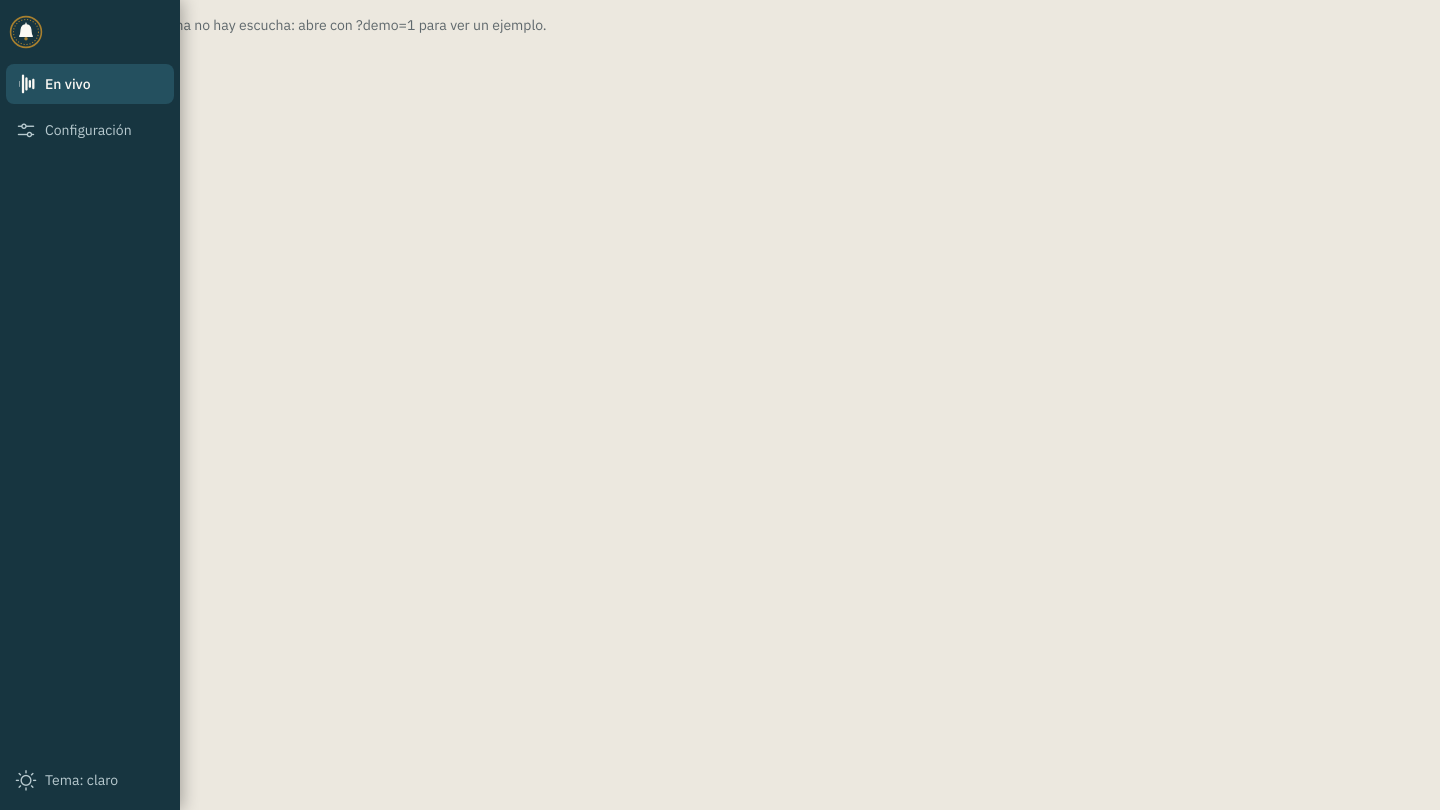
App › alterna el tema en el documento
Click the button "Tema: claro" at (90, 780), box [6,760,174,800]
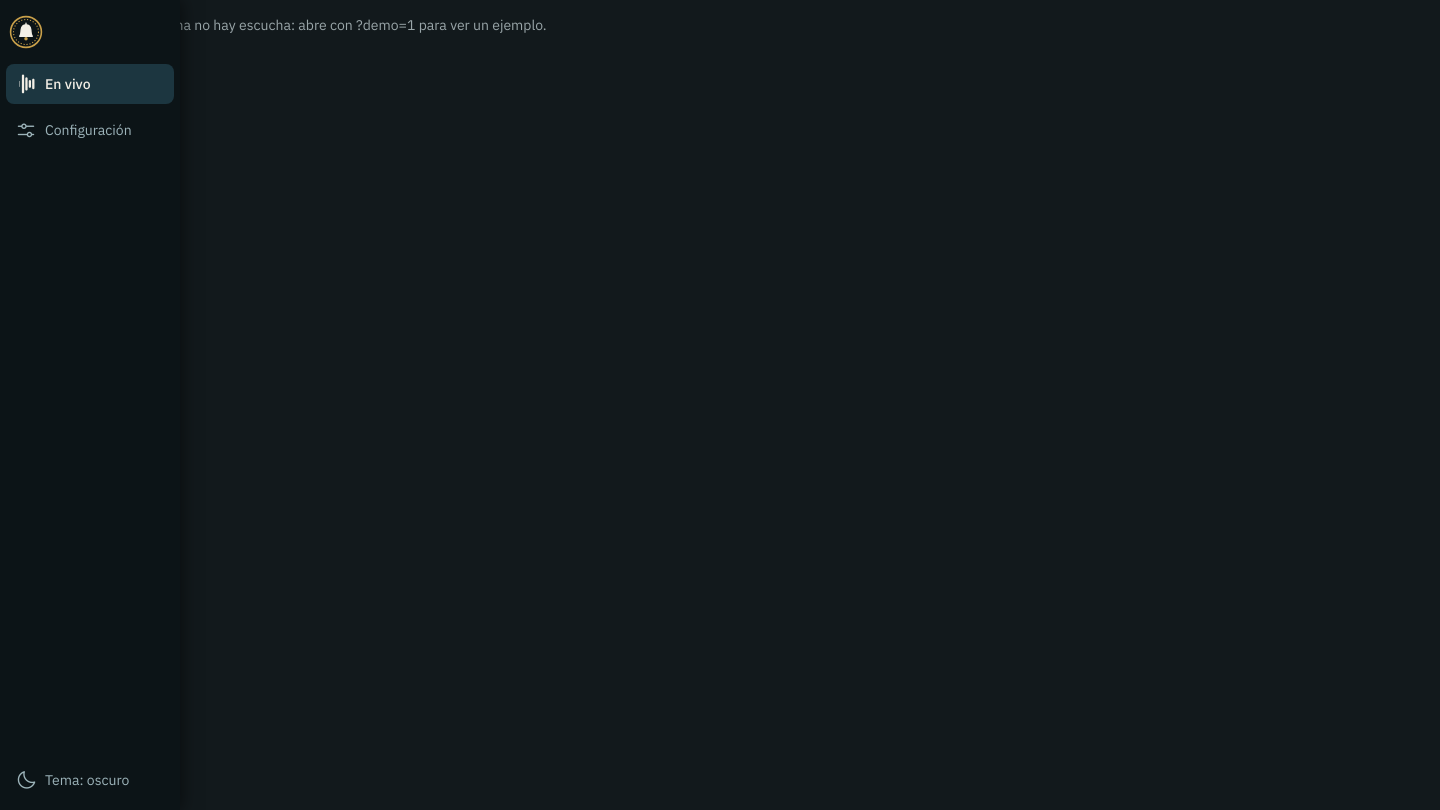
Check: the button "Tema: oscuro" is shown, box [6,760,174,800]
